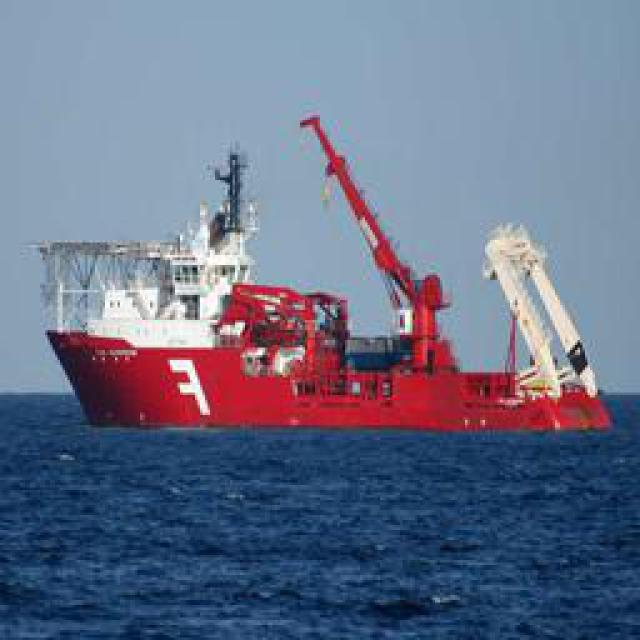Ship: (51, 111, 604, 434)
